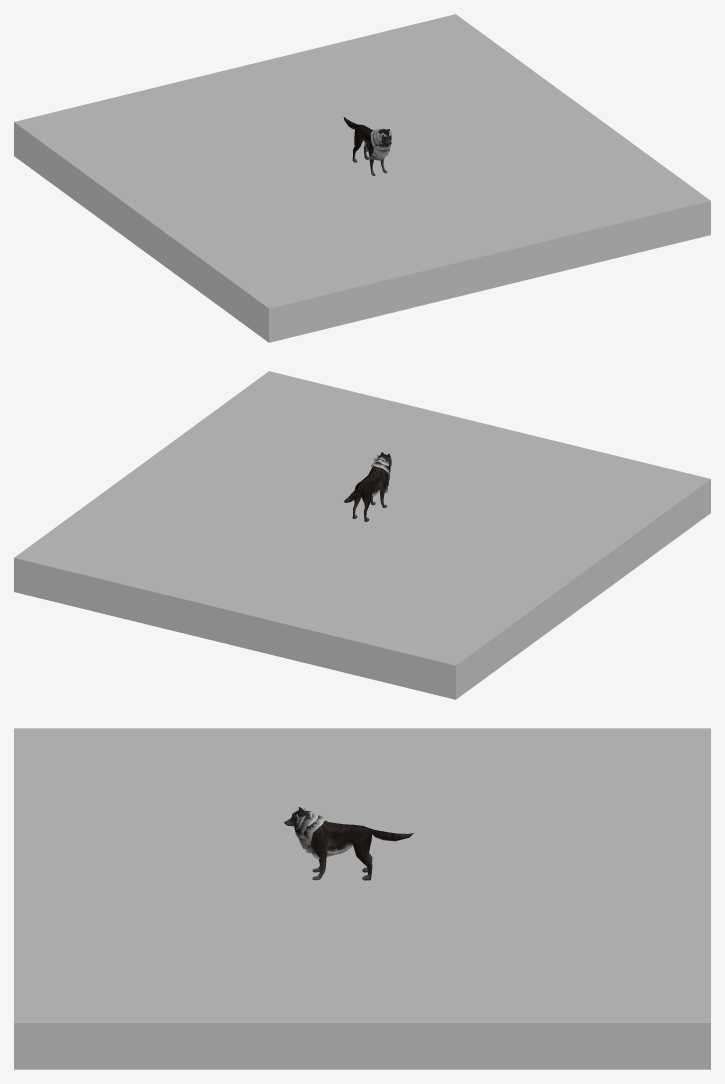
3 views of the same model, one above another, from view 1: azimuth 30°, elevation 25°; view 2: azimuth 150°, elevation 25°; view 3: azimuth 270°, elevation 25° (orthographic). The views are drawn at different scales.
Visible parts, largest first — view 1: Plane, Wolf1, Wolf2; view 2: Plane, Wolf1; view 3: Plane, Wolf1, Wolf2.
Boxes of the visible parts, x1,y1,x2,y2 form: Plane: (14, 14, 710, 342); Wolf1: (343, 117, 391, 175); Wolf2: (364, 128, 391, 160); Plane: (14, 371, 710, 699); Wolf1: (344, 452, 391, 522); Plane: (14, 728, 710, 1069); Wolf1: (284, 807, 413, 880); Wolf2: (292, 808, 353, 859).
Size of the model in its own units: 5.5 by 0.9831 by 5.5.
6 materials, 3 textured.
